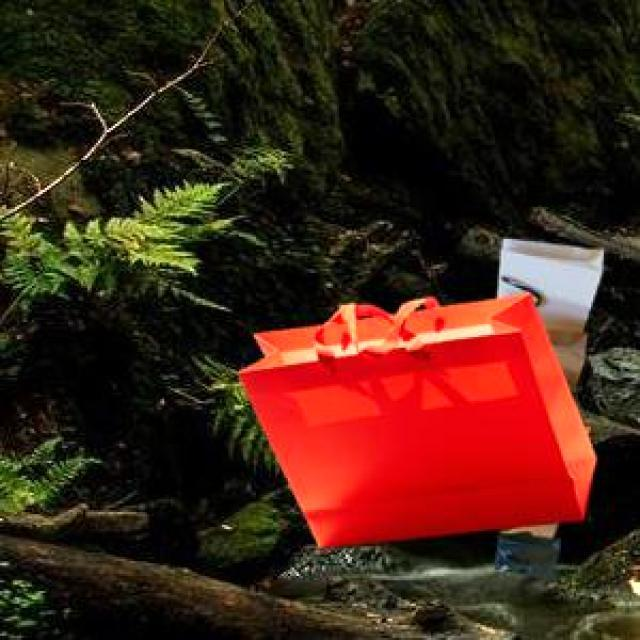Paper_Bag: (233, 289, 592, 545), (492, 235, 600, 578)
